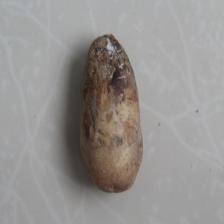Diseased-fungal potato: (79, 29, 145, 195)
